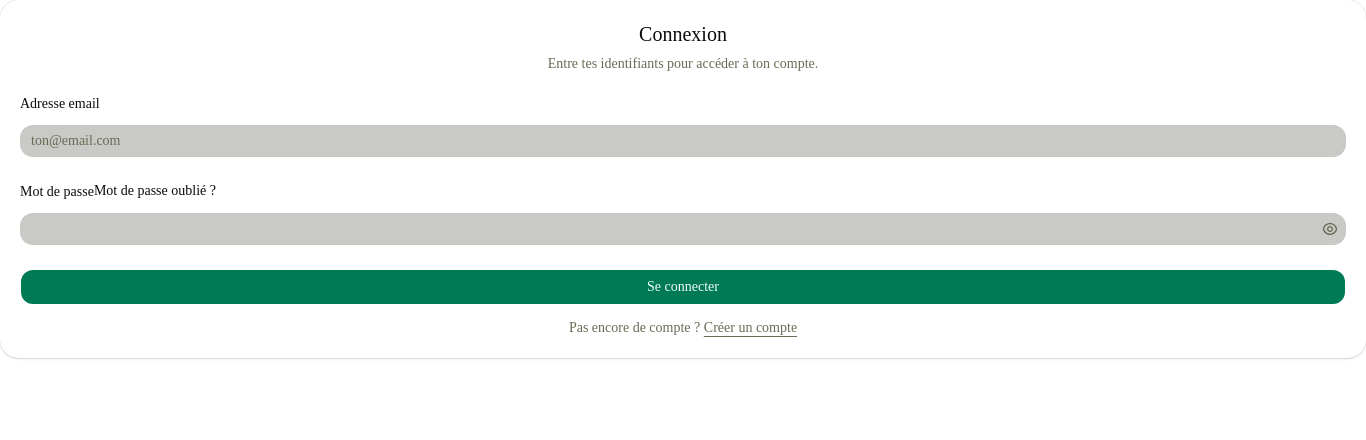
SignInForm › shows field-level errors for empty fields and does not submit
Click the button "Se connecter" at [683, 287], box [20,269,1346,305]
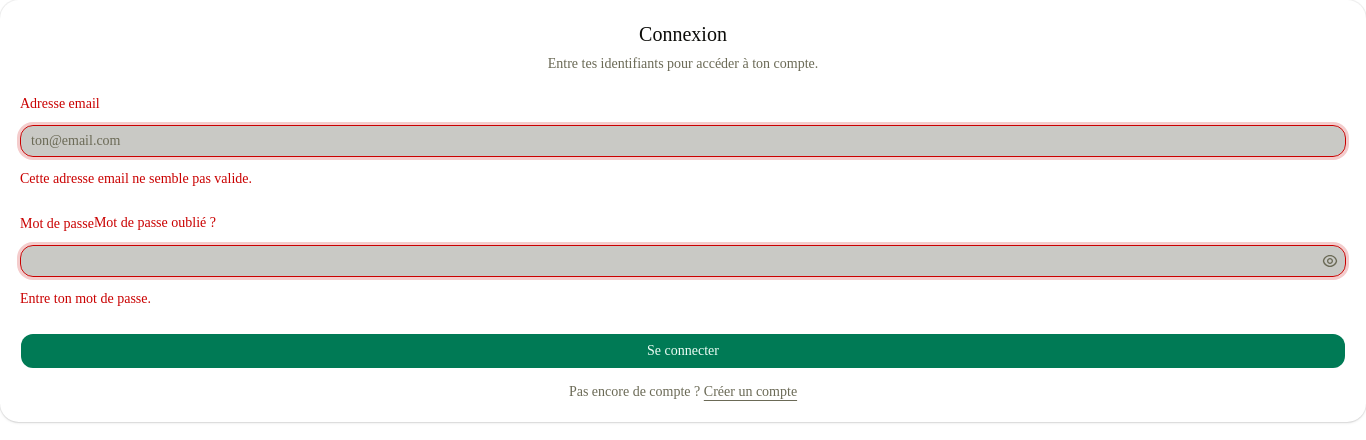
expect the text "Cette adresse email ne semble pas valide." is shown: met, box [20,171,252,186]
expect the text "Entre ton mot de passe." is shown: met, box [20,291,151,306]
